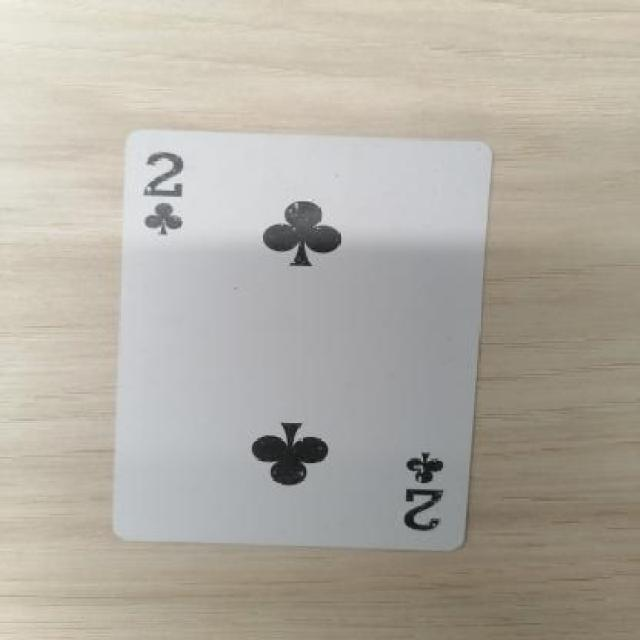2C: (122, 138, 229, 247), (365, 453, 472, 541)
